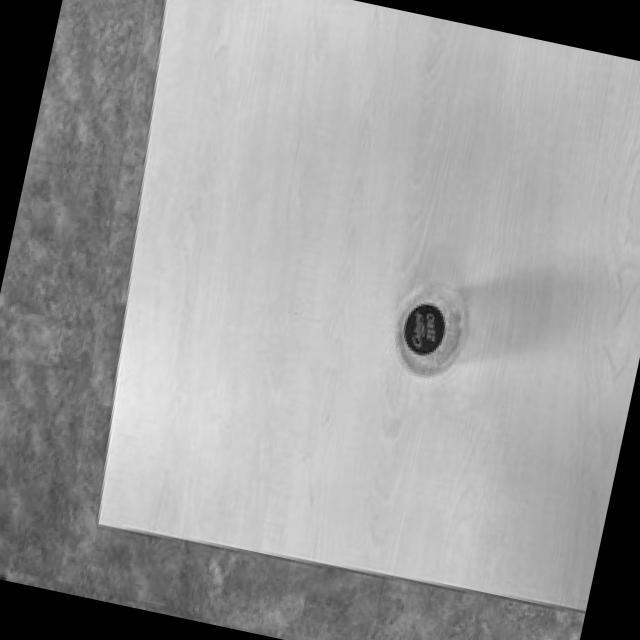good: (378, 272, 479, 385)
